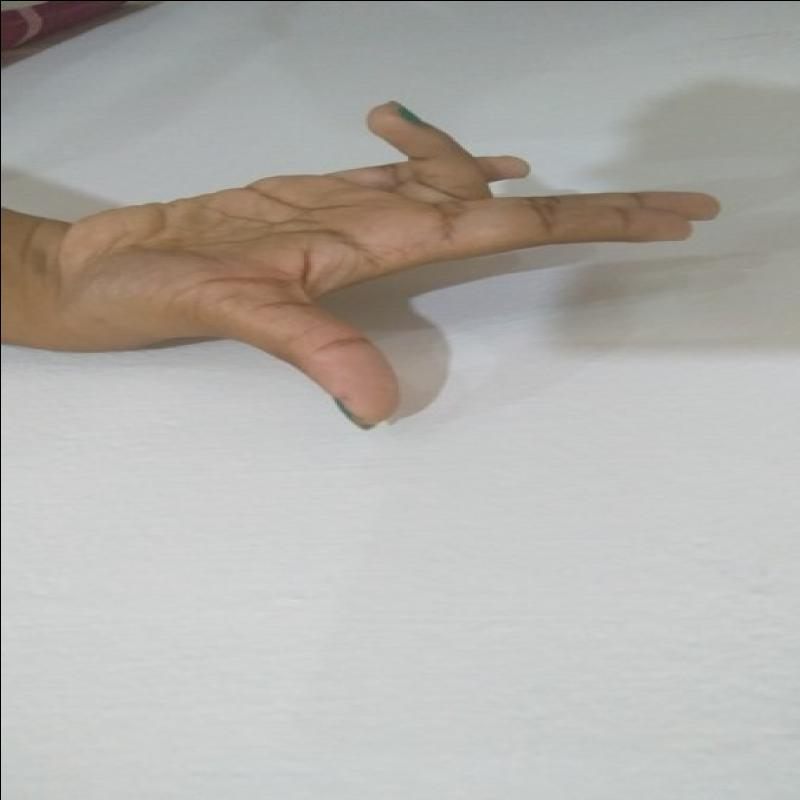Pathaaka: (70, 90, 733, 445)
